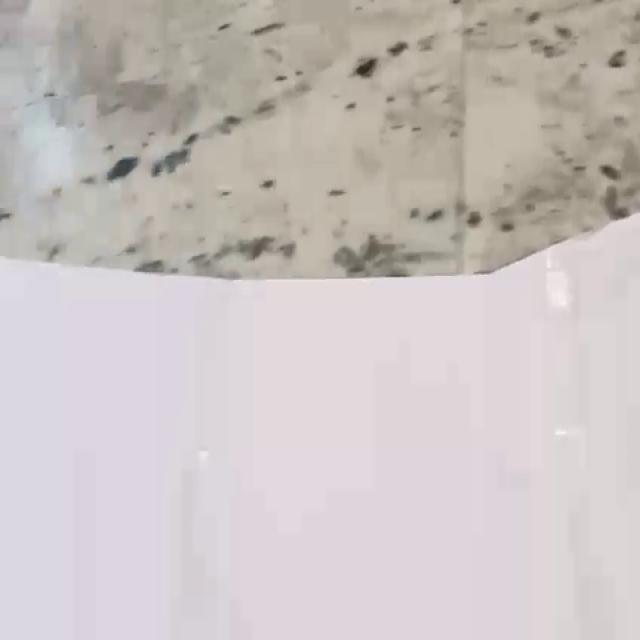road: (0, 213, 640, 640)
